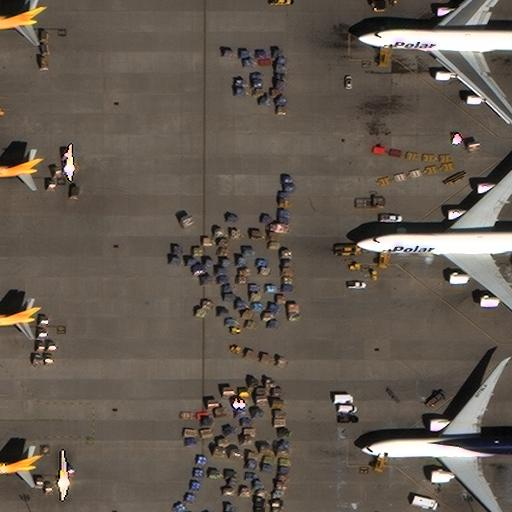Large Civil Transport: (356, 161, 511, 318), (360, 361, 511, 512), (357, 0, 511, 124), (0, 0, 37, 64), (0, 141, 37, 199), (0, 440, 36, 496), (0, 293, 35, 345)
